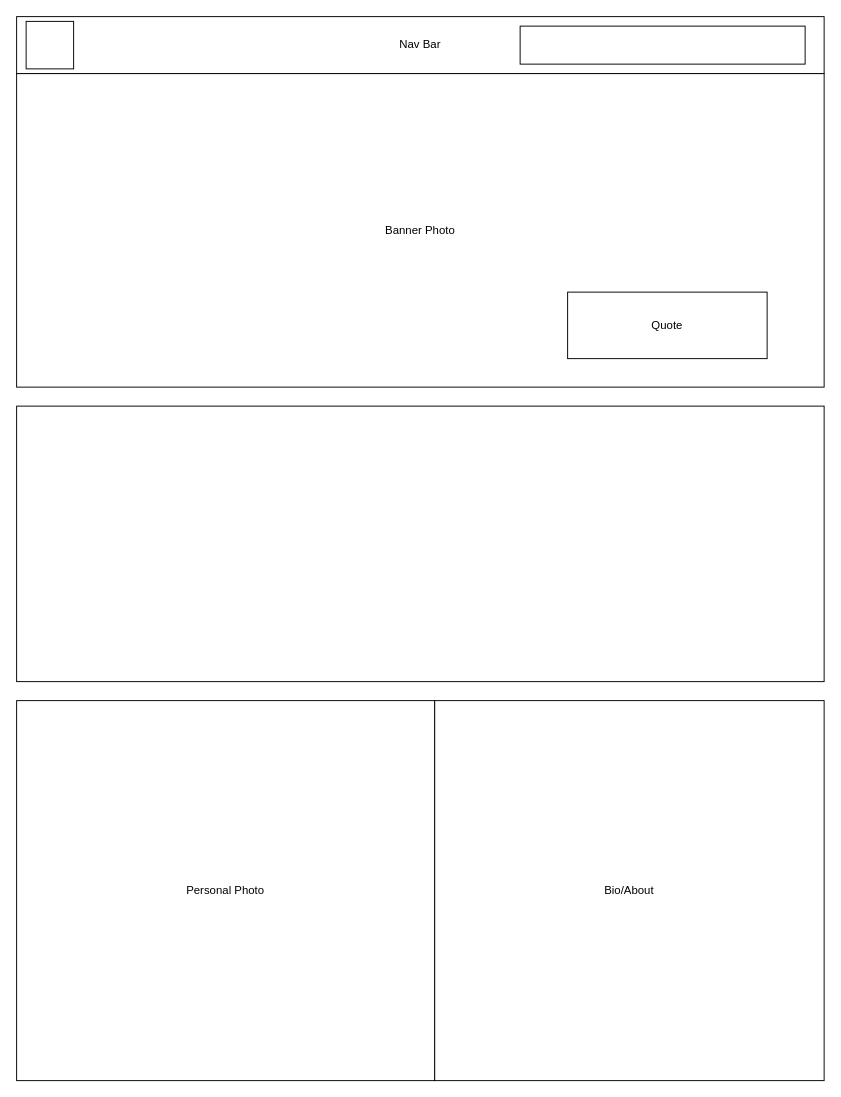
Image size: 841x1097. Some labels were removed from this diagram. The centre of each missing label's shape, as x and y in pixels:
GitHub portfolio: the point at 420,543
Links: the point at 662,44
Logo: the point at 49,44
